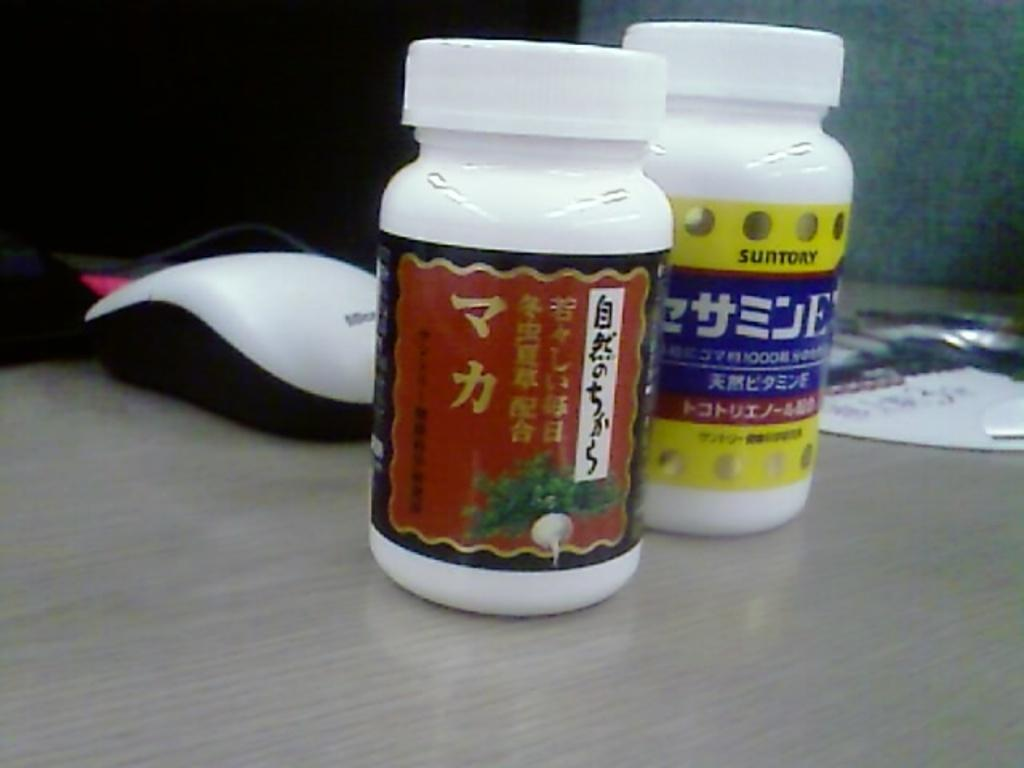Computer-mouse: (83, 253, 389, 443)
